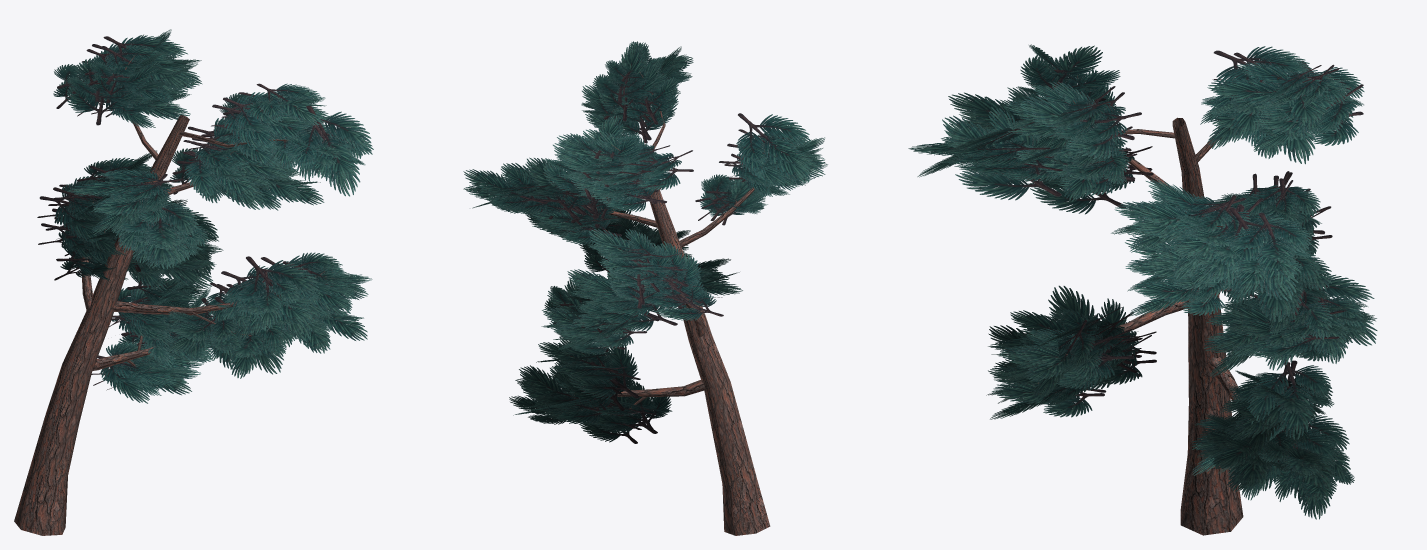
File: nature-blue-windswept-pine.glb
3 views of the same model, side by side, from view 1: azimuth 30°, elevation 25°; view 2: azimuth 150°, elevation 25°; view 3: azimuth 270°, elevation 25° (orthographic). The views are drawn at different scales.
Visible parts, largest first — view 1: nature-blue-windswept-pine; view 2: nature-blue-windswept-pine; view 3: nature-blue-windswept-pine.
Part boxes in pixels (left/top/right/bottom): nature-blue-windswept-pine: left=14, top=29, right=373, bottom=535; nature-blue-windswept-pine: left=463, top=41, right=827, bottom=535; nature-blue-windswept-pine: left=908, top=44, right=1377, bottom=535.
Bounding box in the file's own units: 5.78 × 7.05 × 6.27.
Materials: 2 (2 with a texture image).
